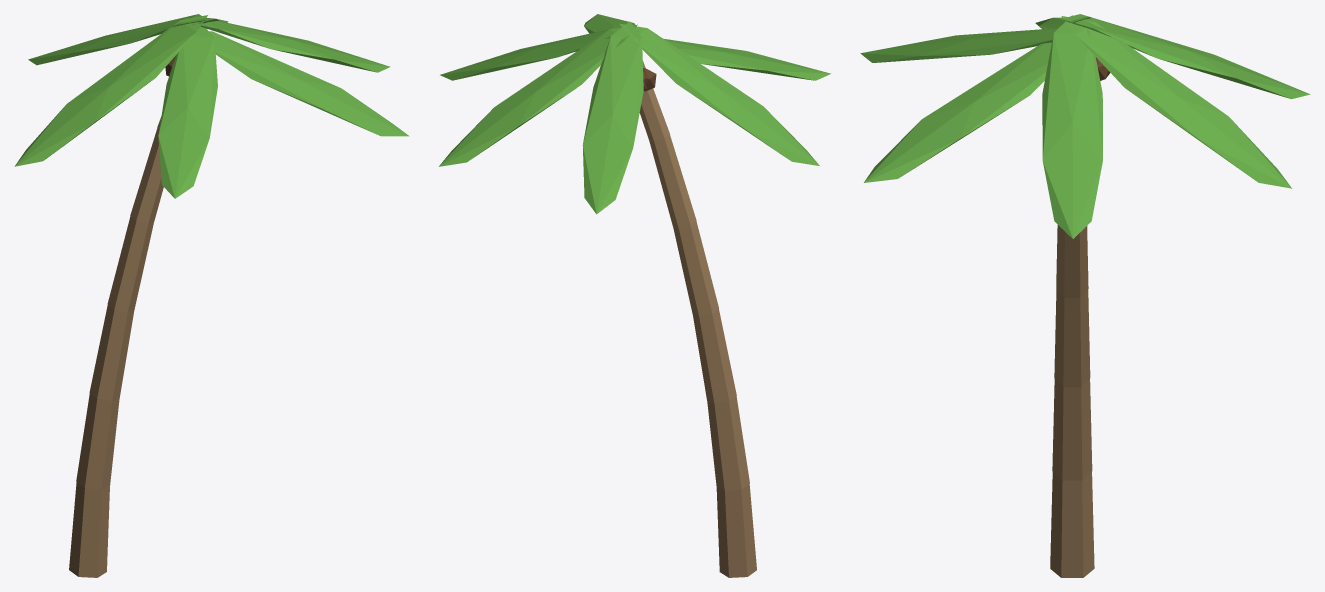
Rendered from Palm_B.glb.
3 views of the same model, side by side, from view 1: azimuth 30°, elevation 25°; view 2: azimuth 150°, elevation 25°; view 3: azimuth 270°, elevation 25° (orthographic). The views are drawn at different scales.
Parts seen in each view (by area): view 1: Palm_B; view 2: Palm_B; view 3: Palm_B.
Part boxes in pixels (bbox=[...]): Palm_B: bbox=[14, 14, 409, 577]; Palm_B: bbox=[439, 14, 830, 577]; Palm_B: bbox=[860, 14, 1310, 577].
Size of the model in its own units: 4.64 by 6.13 by 4.06.
